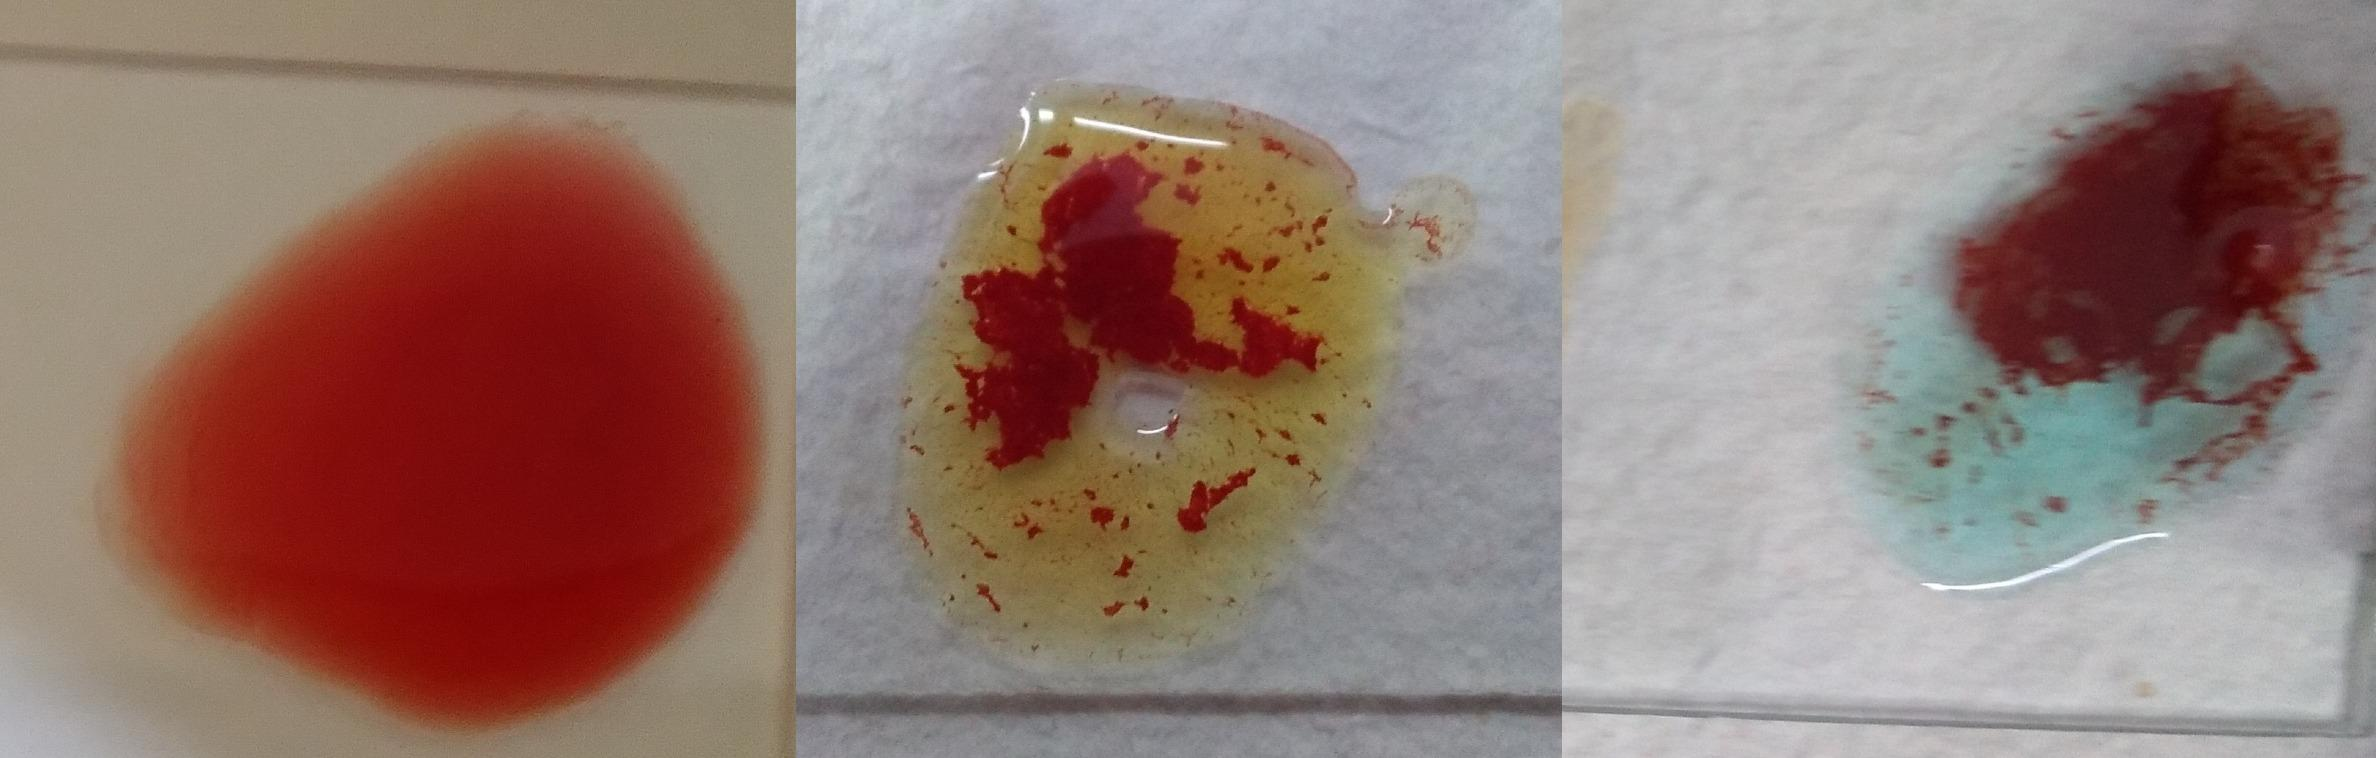A: (1858, 38, 2347, 593)
B: (893, 77, 1367, 644)
